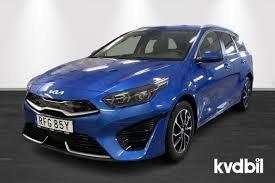license-plates: (37, 116, 73, 132)
